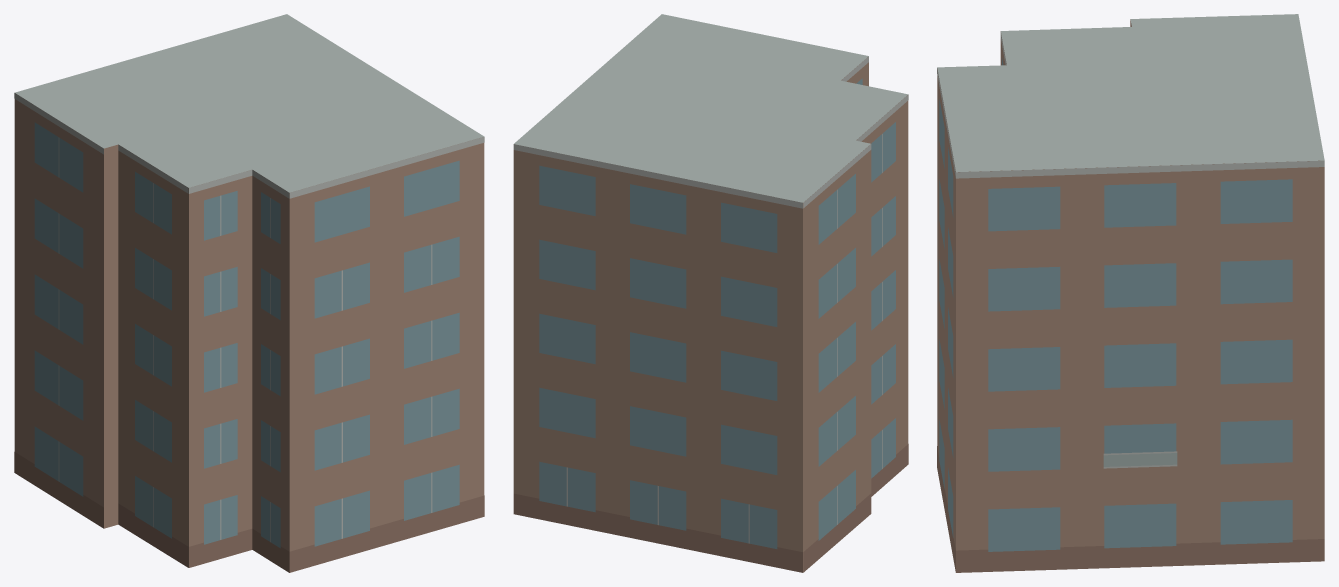
Rendered from survey-upis-32778902.glb.
3 views of the same model, side by side, from view 1: azimuth 30°, elevation 25°; view 2: azimuth 150°, elevation 25°; view 3: azimuth 270°, elevation 25° (orthographic). The views are drawn at different scales.
Visible parts, largest first — view 1: survey-upis-32778902.tmp; view 2: survey-upis-32778902.tmp; view 3: survey-upis-32778902.tmp.
Boxes of the visible parts, x1,y1,x2,y2 form: survey-upis-32778902.tmp: [14, 14, 484, 572]; survey-upis-32778902.tmp: [513, 14, 908, 572]; survey-upis-32778902.tmp: [937, 14, 1324, 572].
Bounding box in the file's own units: 12.96 × 15.3 × 13.42.
